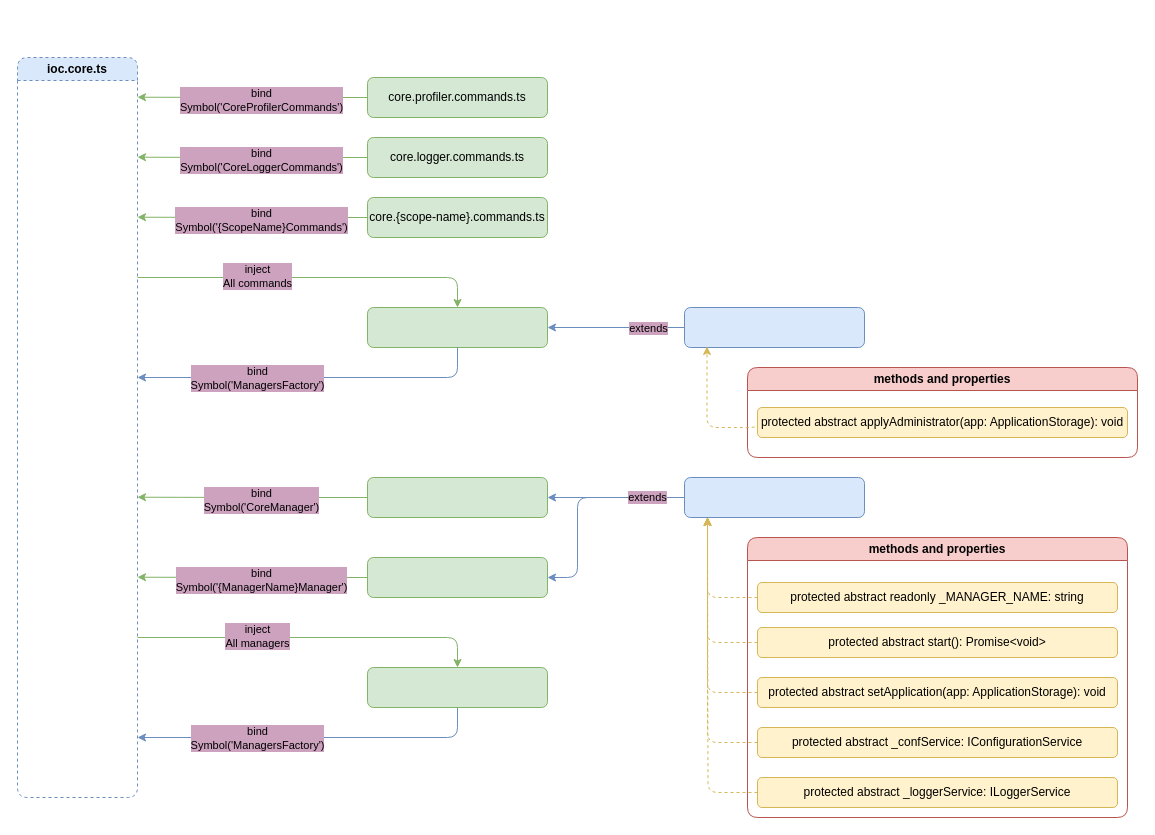
The diagram is 1155 pixels wide and 835 high, and some of its shapes have lost their labels. Here are the shapes that lost their labels. From the top down, the centre of each, then its label:
[457,327]: core.manager.mediator.ts
[774,327]: abstract.manager.mediator.ts
[457,497]: core.manager.ts
[774,497]: abstract.manager.ts
[457,577]: {manager-name}.manager.ts
[457,687]: managers.factory.ts
